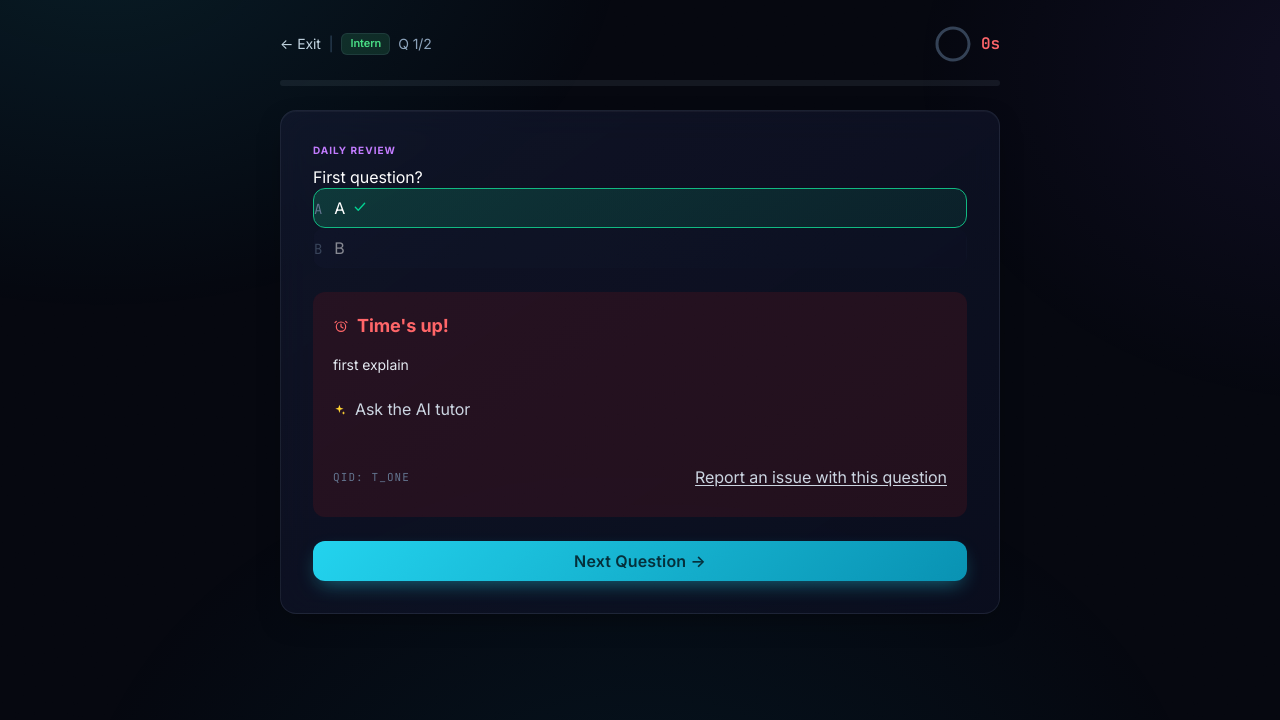
Test case: CasePlay timer › still counts down normally on the question after a timeout
Click the button "Next Question →" at {"x": 640, "y": 561}, box left=313, top=541, right=967, bottom=581
Wait 5000 ms
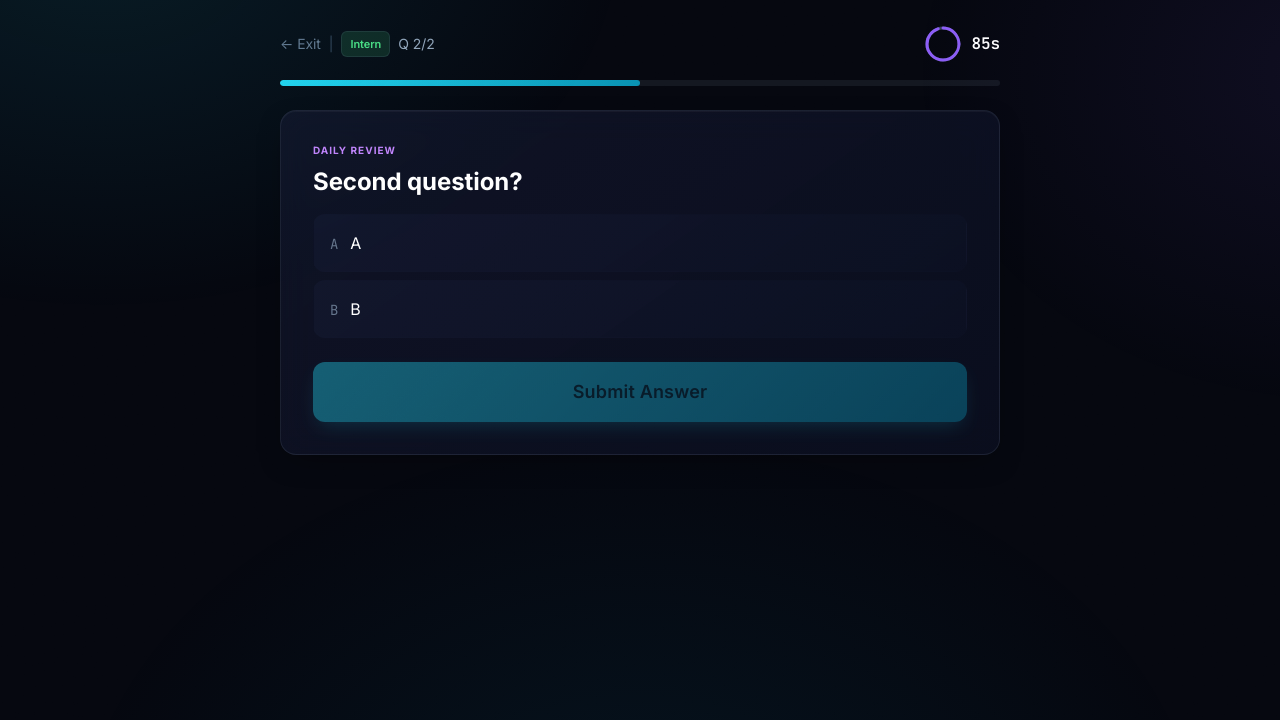
Now the text "Time.s up" is gone
